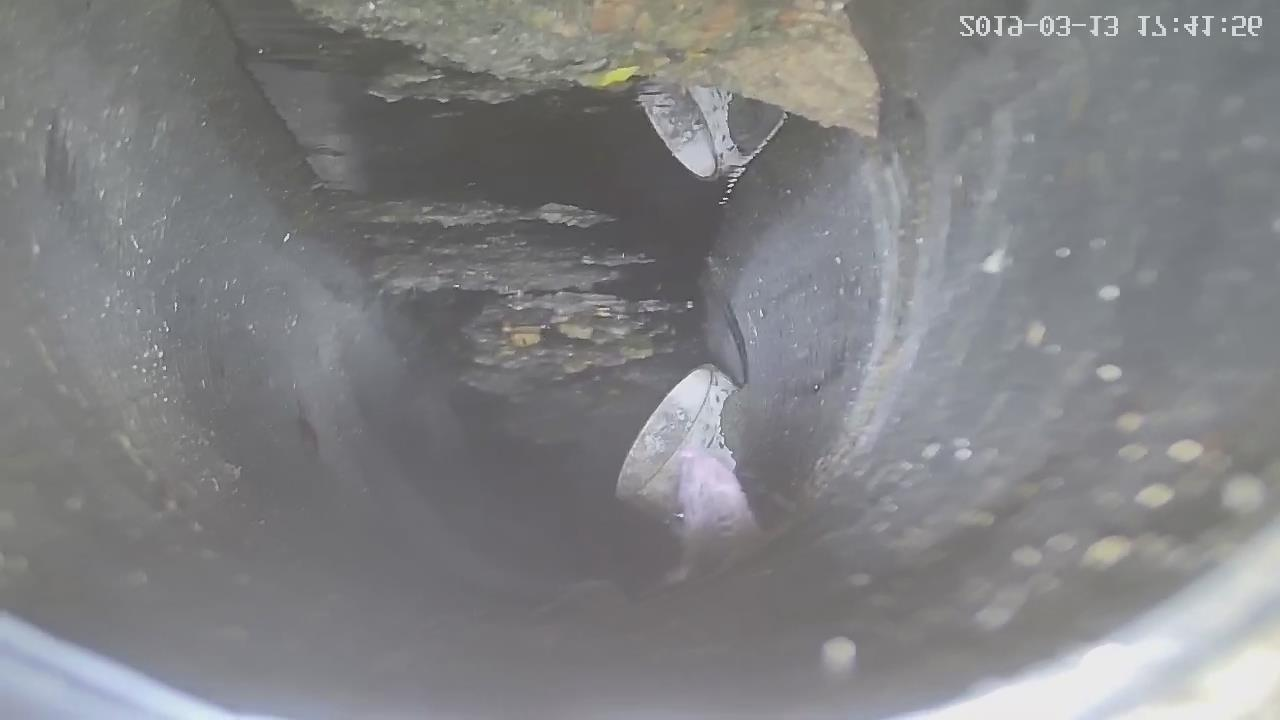CJ: (352, 201, 699, 444), (296, 1, 878, 135)
ZGAJ: (616, 365, 756, 557), (637, 85, 753, 179)
